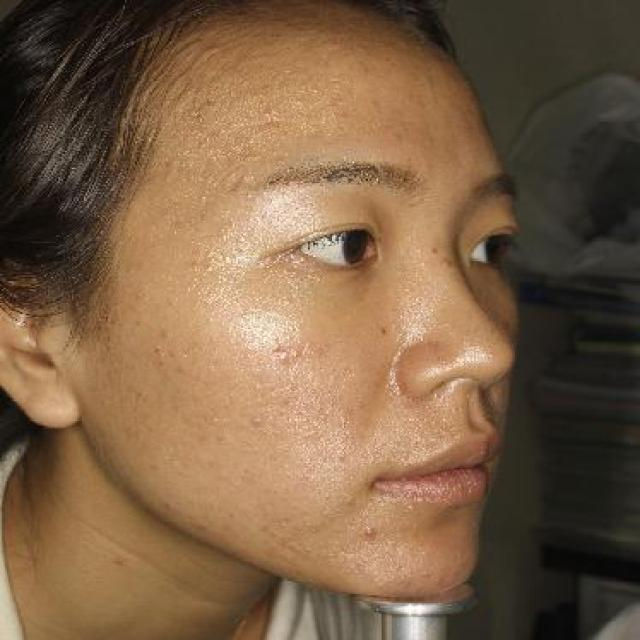papules: (359, 525, 384, 540), (443, 255, 455, 271)
whiteheads: (266, 342, 312, 366), (164, 157, 183, 175), (320, 505, 337, 523), (190, 135, 207, 151), (281, 292, 296, 310), (250, 414, 269, 428), (203, 169, 216, 186), (240, 309, 255, 323), (207, 286, 219, 302), (344, 72, 356, 88), (176, 363, 188, 377), (250, 472, 262, 486), (320, 549, 335, 560), (272, 426, 284, 439), (312, 83, 324, 95), (304, 543, 315, 555), (305, 428, 313, 444), (332, 125, 346, 134), (221, 229, 229, 243), (238, 231, 245, 246), (192, 257, 200, 269), (274, 156, 286, 164), (269, 530, 279, 538)
